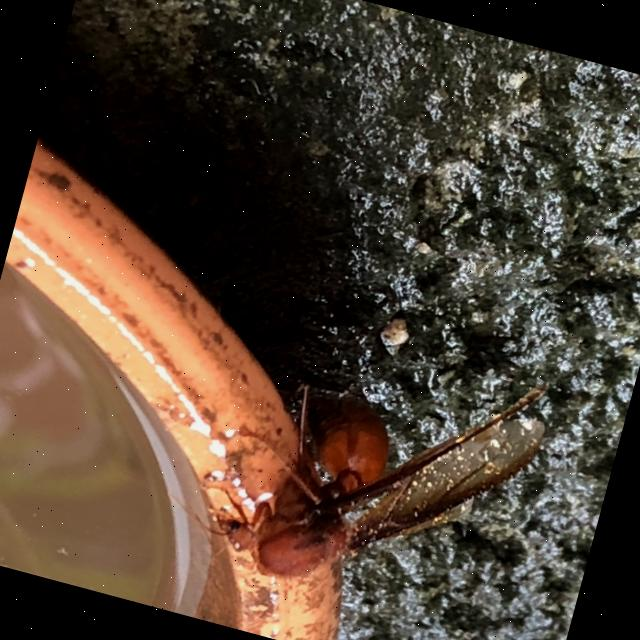Alive-Male-Alate: (149, 293, 558, 640)
